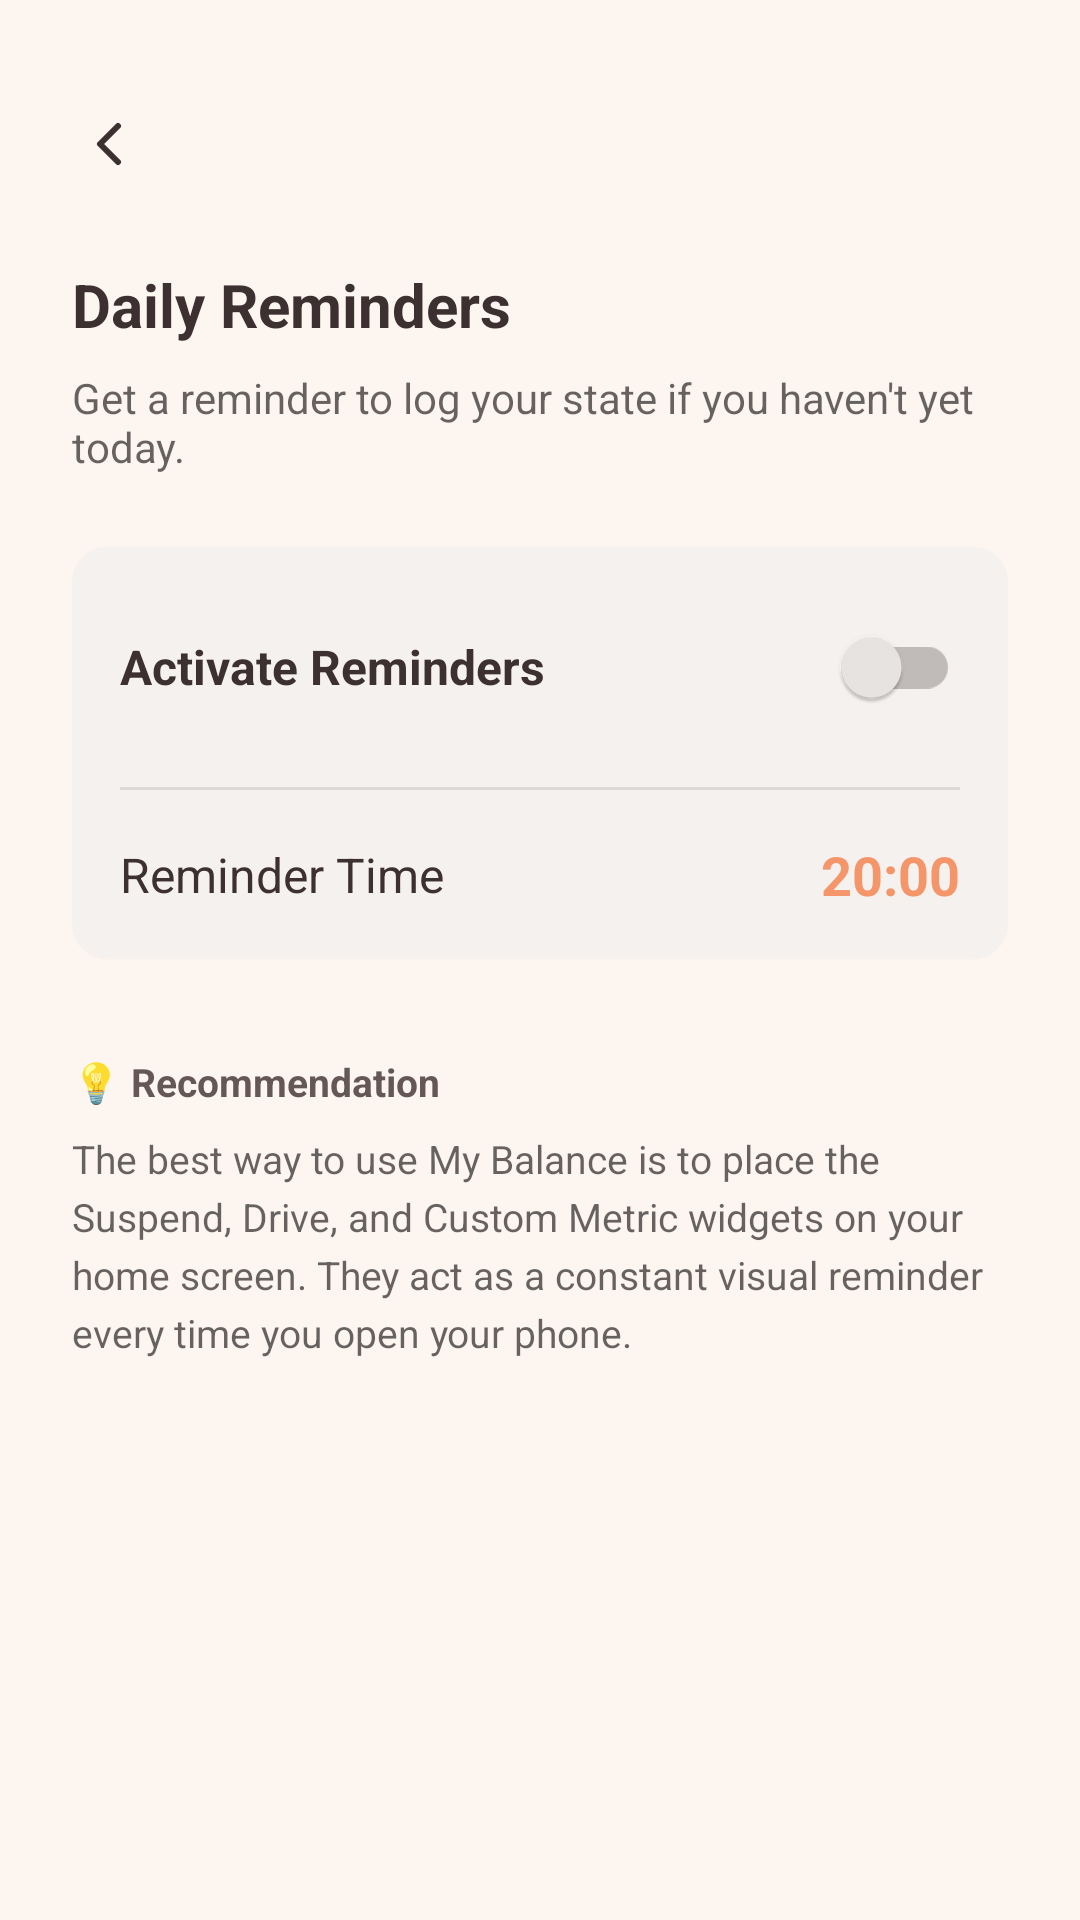

Icon click points for this 1080px×1920px phone screenshot, format point (x, y):
chevron left: point (109, 144)
